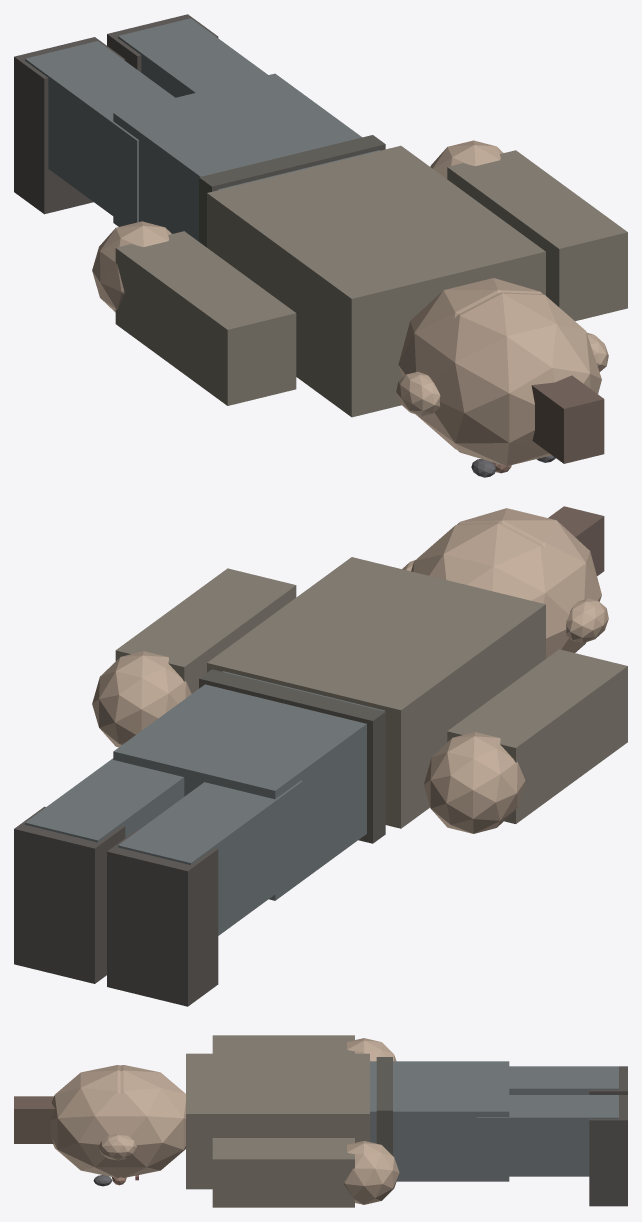
Rendered from hair_male_mohawk.glb.
The picture shows the model from 3 angles, top to bottom: view 1: azimuth 30°, elevation 25°; view 2: azimuth 150°, elevation 25°; view 3: azimuth 270°, elevation 25°; orthographic projection. The views are drawn at different scales.
Visible parts, largest first — view 1: part_00, part_06, part_02, part_01, part_12, part_04, part_10, part_05, part_19, part_03, part_18, part_07 (+3 smaller); view 2: part_00, part_01, part_06, part_05, part_04, part_11, part_12, part_03, part_07, part_10, part_13, part_18 (+3 smaller); view 3: part_00, part_01, part_12, part_10, part_02, part_03, part_11, part_04, part_06, part_13, part_19, part_18 (+3 smaller).
Part boxes in pixels (bbox=[...]): part_00: bbox=[207, 145, 545, 417]; part_06: bbox=[115, 231, 296, 405]; part_02: bbox=[419, 292, 601, 466]; part_01: bbox=[113, 73, 379, 241]; part_12: bbox=[447, 150, 627, 321]; part_04: bbox=[25, 41, 175, 225]; part_10: bbox=[118, 18, 267, 97]; part_05: bbox=[14, 37, 125, 214]; part_19: bbox=[531, 375, 604, 463]; part_03: bbox=[398, 278, 543, 449]; part_18: bbox=[199, 135, 385, 247]; part_07: bbox=[92, 221, 171, 312]; part_00: bbox=[207, 557, 545, 828]; part_01: bbox=[113, 671, 384, 900]; part_06: bbox=[447, 649, 627, 823]; part_05: bbox=[107, 829, 218, 1006]; part_04: bbox=[118, 780, 302, 935]; part_11: bbox=[14, 806, 125, 983]; part_12: bbox=[115, 568, 296, 693]; part_03: bbox=[411, 522, 581, 658]; part_07: bbox=[423, 732, 525, 833]; part_10: bbox=[25, 758, 184, 842]; part_13: bbox=[92, 651, 191, 747]; part_18: bbox=[199, 669, 385, 843]; part_00: bbox=[186, 1053, 369, 1189]; part_01: bbox=[370, 1061, 509, 1181]; part_12: bbox=[212, 1138, 354, 1207]; part_10: bbox=[476, 1095, 618, 1176]; part_02: bbox=[50, 1065, 140, 1177]; part_03: bbox=[102, 1065, 185, 1177]; part_11: bbox=[589, 1095, 627, 1206]; part_04: bbox=[509, 1066, 618, 1094]; part_06: bbox=[212, 1035, 354, 1053]; part_13: bbox=[344, 1141, 399, 1204]; part_19: bbox=[14, 1096, 54, 1143]; part_18: bbox=[376, 1057, 392, 1155].
Bounding box in the file's own units: 1.03 × 0.425 × 2.07.
